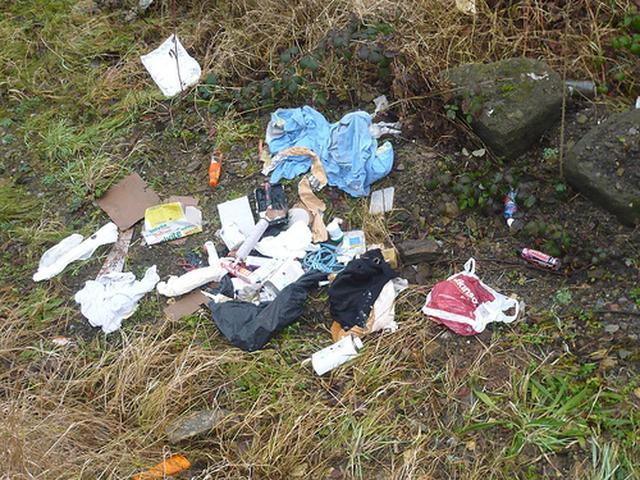garbage: (130, 177, 398, 317)
